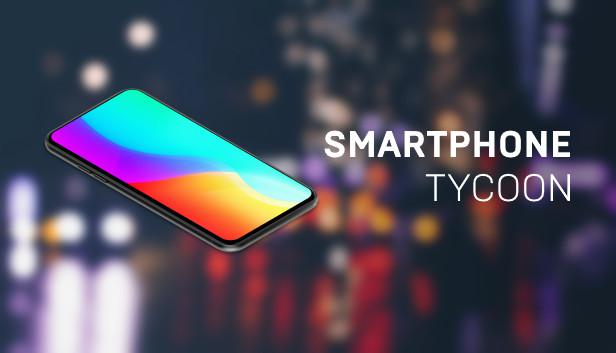Smartphone: (43, 88, 318, 254)
